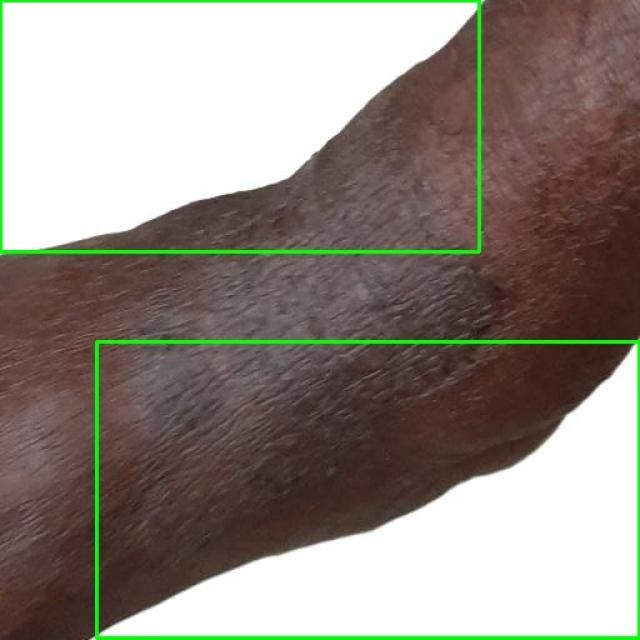Eczema: (96, 342, 639, 639), (0, 0, 479, 251)
